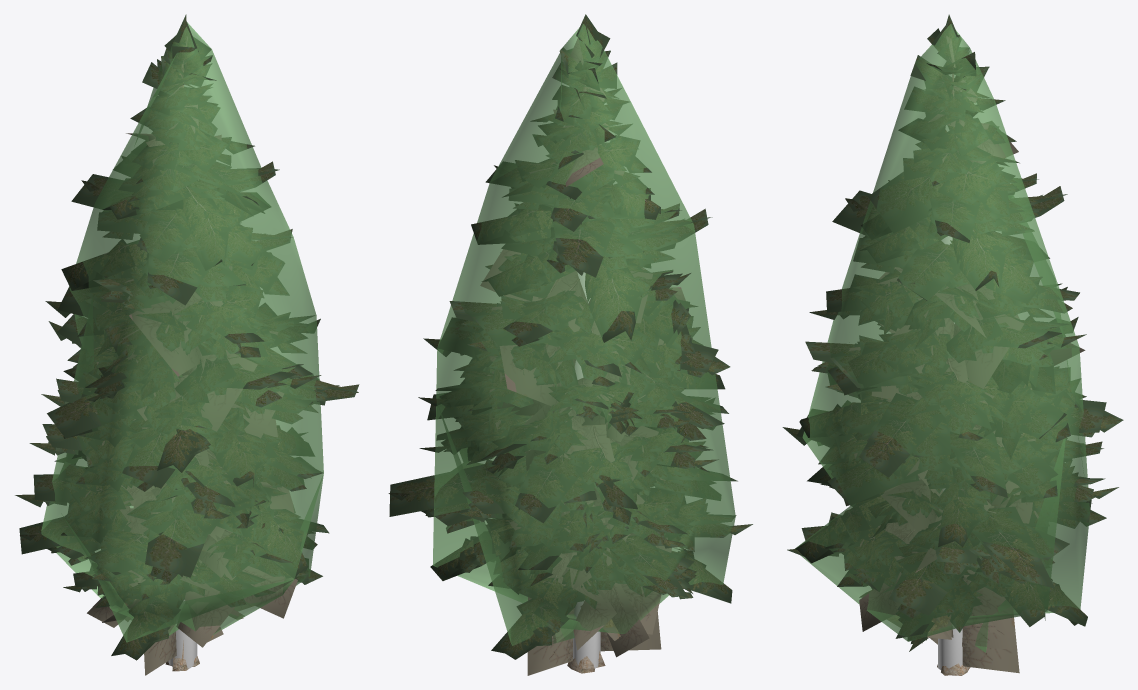
Rendered from tree_douglasfir_large_a.dae.
3 renders of one model, left to right at view 1: azimuth 30°, elevation 25°; view 2: azimuth 150°, elevation 25°; view 3: azimuth 270°, elevation 25°, orthographic.
Visible parts, largest first — view 1: Colmesh_large_a-1, tree_douglasfir_large_a_a700, tree_douglasfir_large_a_a2000, tree_douglasfir_large_a_a1500; view 2: Colmesh_large_a-1, tree_douglasfir_large_a_a700, tree_douglasfir_large_a_a2000, tree_douglasfir_large_a_a1500; view 3: Colmesh_large_a-1, tree_douglasfir_large_a_a700, tree_douglasfir_large_a_a2000, tree_douglasfir_large_a_a1500.
Boxes of the visible parts, x1,y1,x2,y2 form: Colmesh_large_a-1: (41, 22, 323, 668); tree_douglasfir_large_a_a700: (19, 43, 358, 675); tree_douglasfir_large_a_a2000: (15, 21, 359, 671); tree_douglasfir_large_a_a1500: (38, 14, 358, 670); Colmesh_large_a-1: (432, 24, 735, 668); tree_douglasfir_large_a_a700: (389, 21, 737, 657); tree_douglasfir_large_a_a2000: (388, 14, 752, 672); tree_douglasfir_large_a_a1500: (411, 37, 731, 675); Colmesh_large_a-1: (795, 24, 1089, 669); tree_douglasfir_large_a_a700: (795, 21, 1106, 673); tree_douglasfir_large_a_a2000: (782, 35, 1123, 675); tree_douglasfir_large_a_a1500: (800, 14, 1093, 675).
Size of the model in its own units: 9.51 by 9.16 by 19.42.
